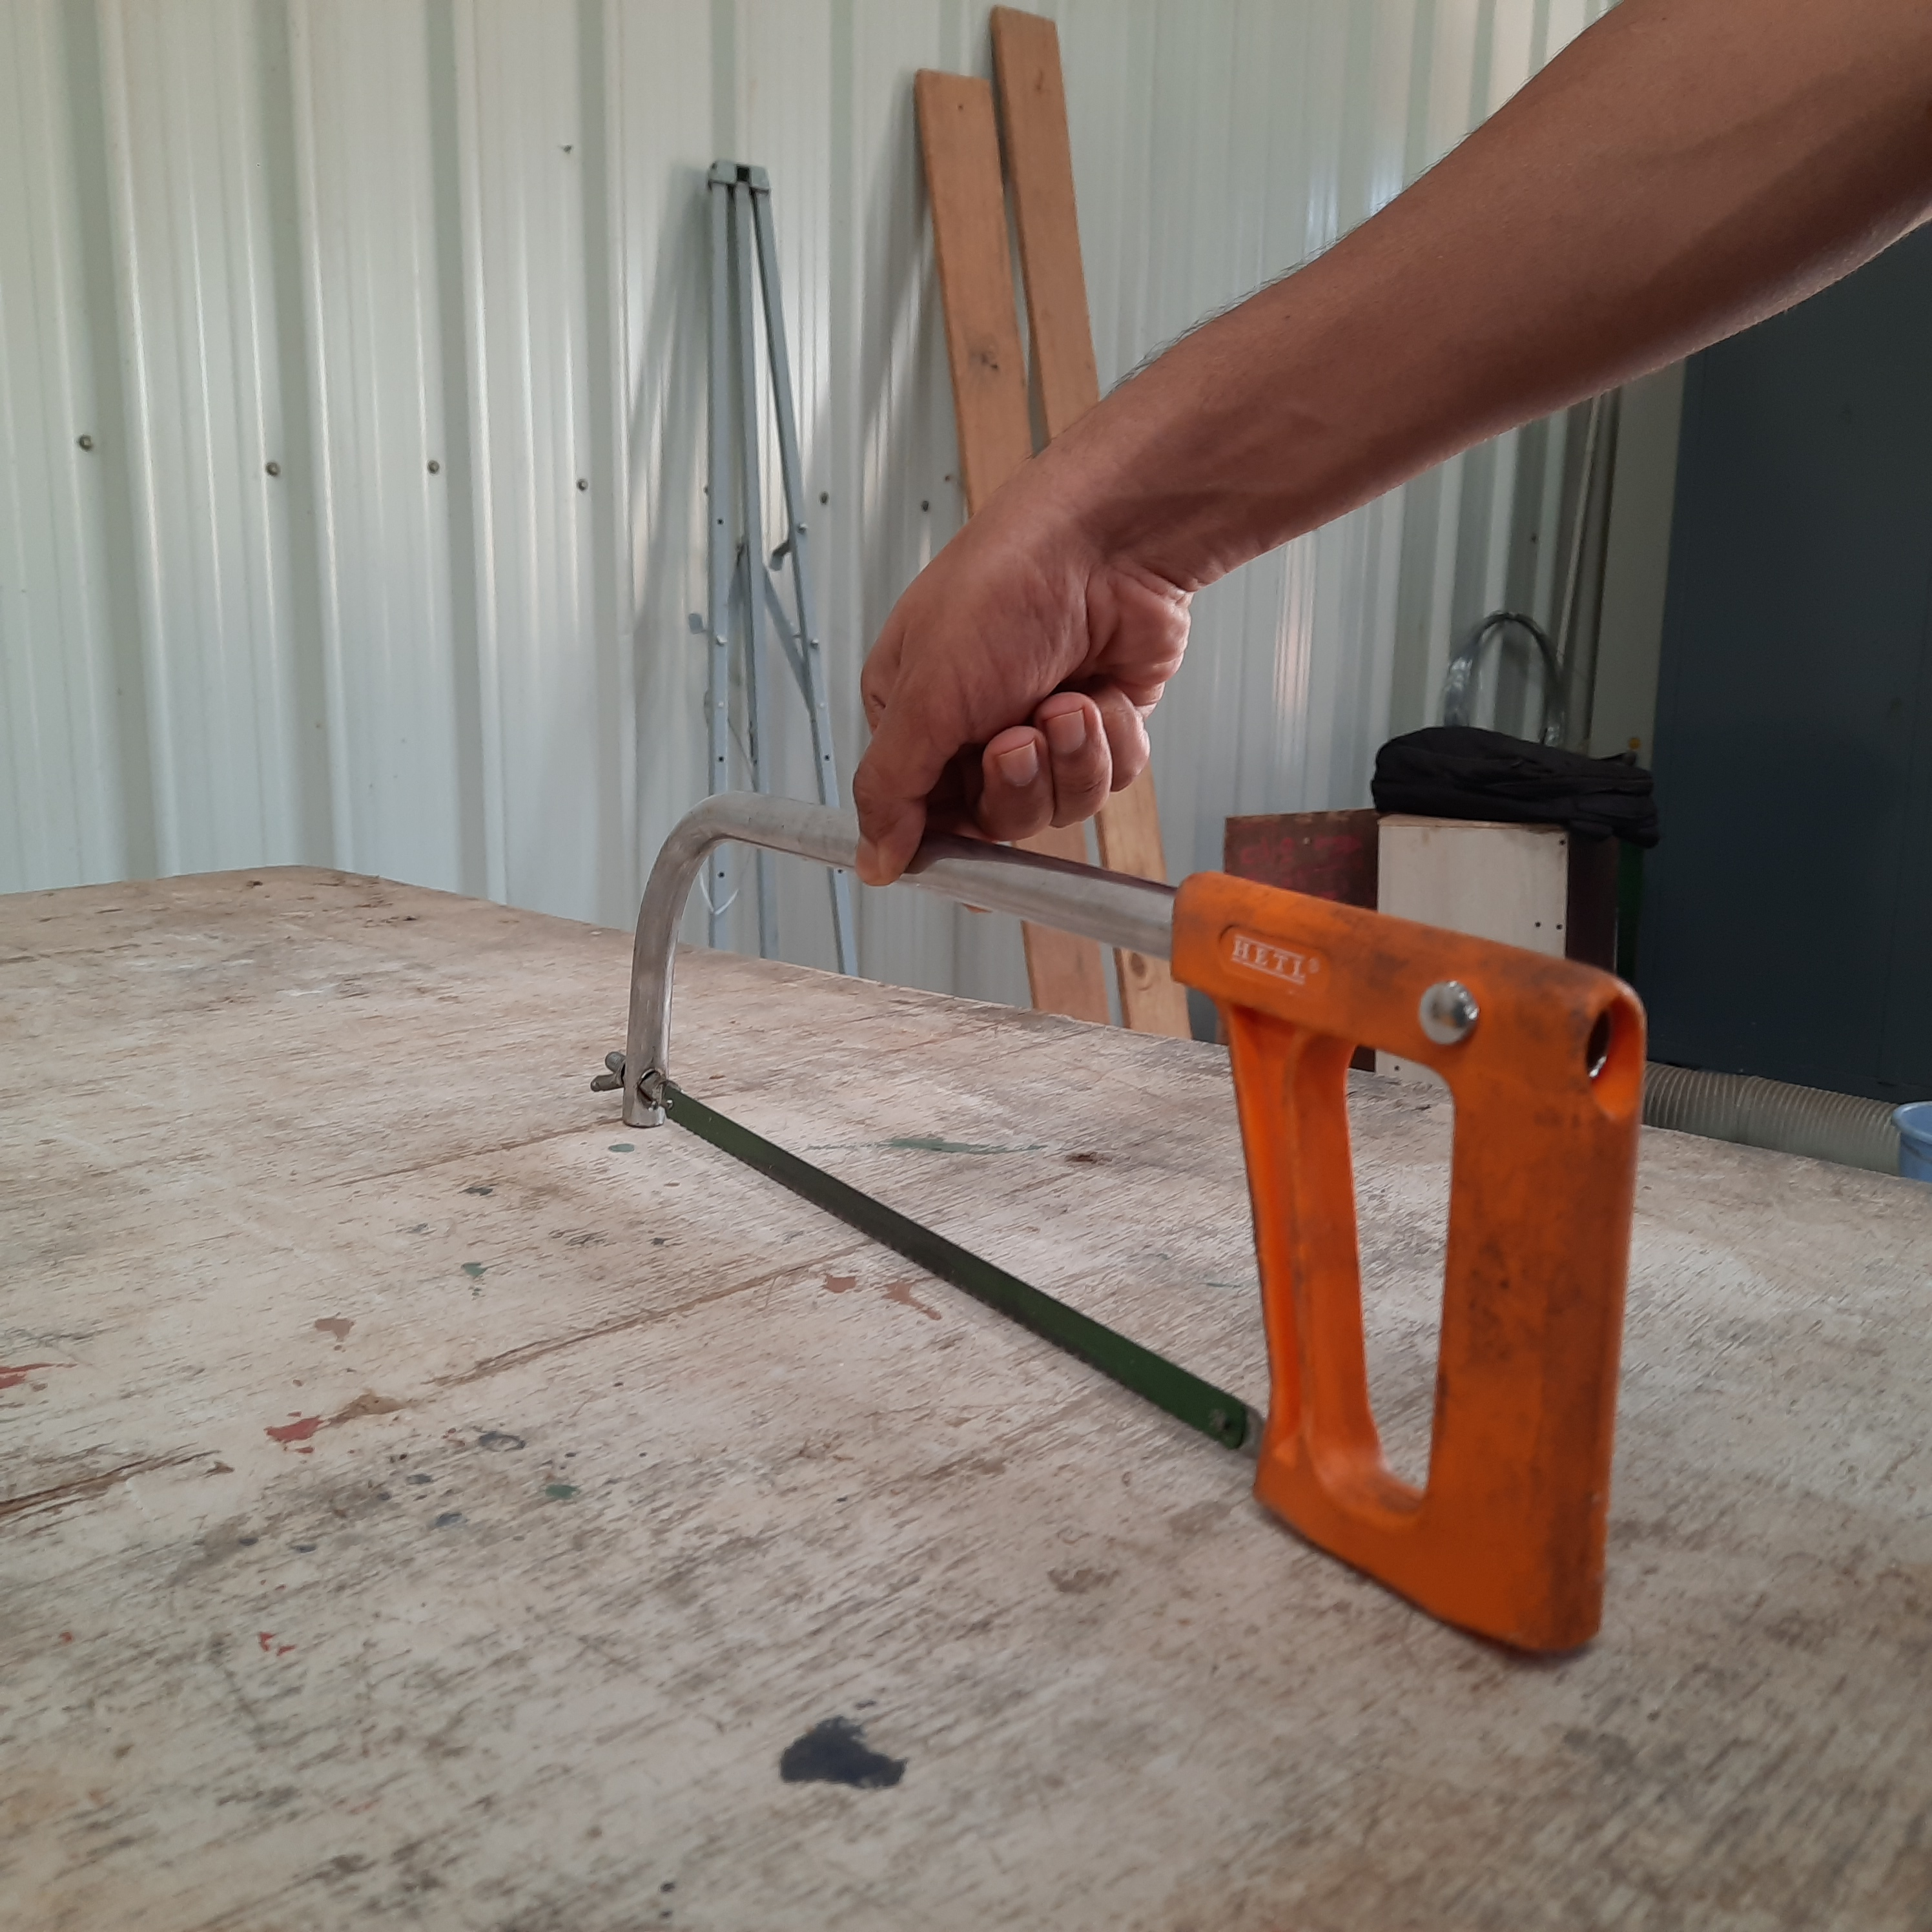Hexaframe: (607, 773, 1672, 1661)
